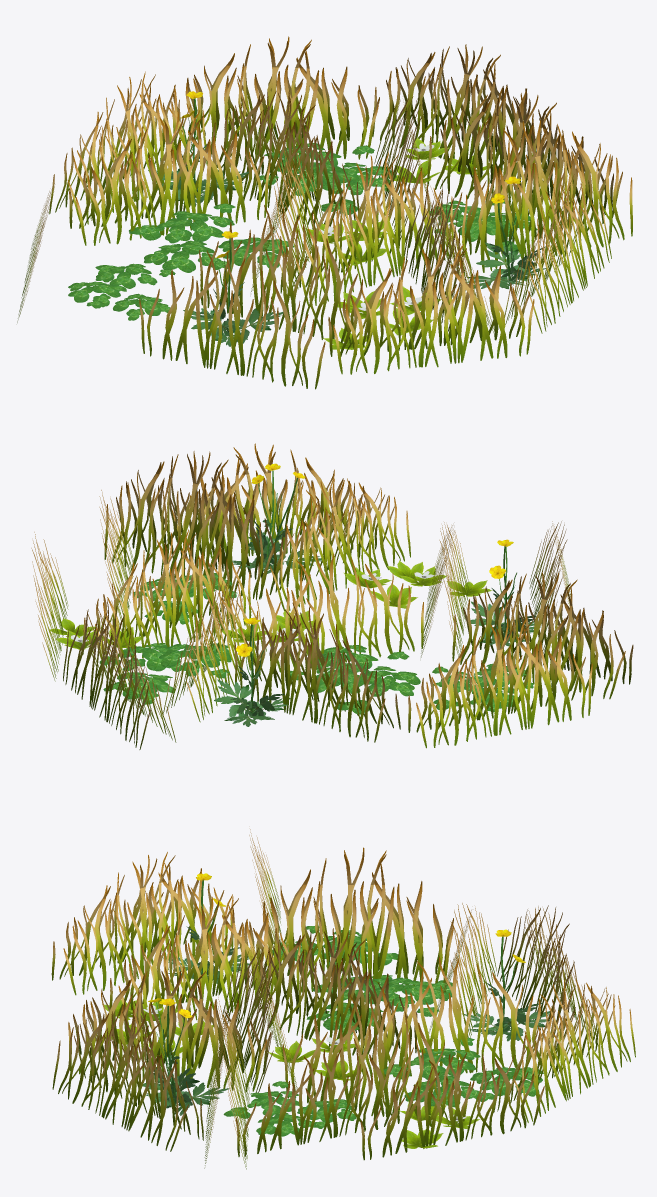
The model's file is GreenGrass_Patch.fbx.
3 renders of one model, top to bottom at view 1: azimuth 30°, elevation 25°; view 2: azimuth 150°, elevation 25°; view 3: azimuth 270°, elevation 25°, orthographic. The views are drawn at different scales.
Parts seen in each view (by area): view 1: GreenGrass41; view 2: GreenGrass41; view 3: GreenGrass41.
Part boxes in pixels (box(x1,y1,x2,y2)): GreenGrass41: box(17, 36, 632, 389); GreenGrass41: box(31, 443, 633, 749); GreenGrass41: box(51, 829, 635, 1169).
Size of the model in its own units: 218 by 206 by 51.14.
